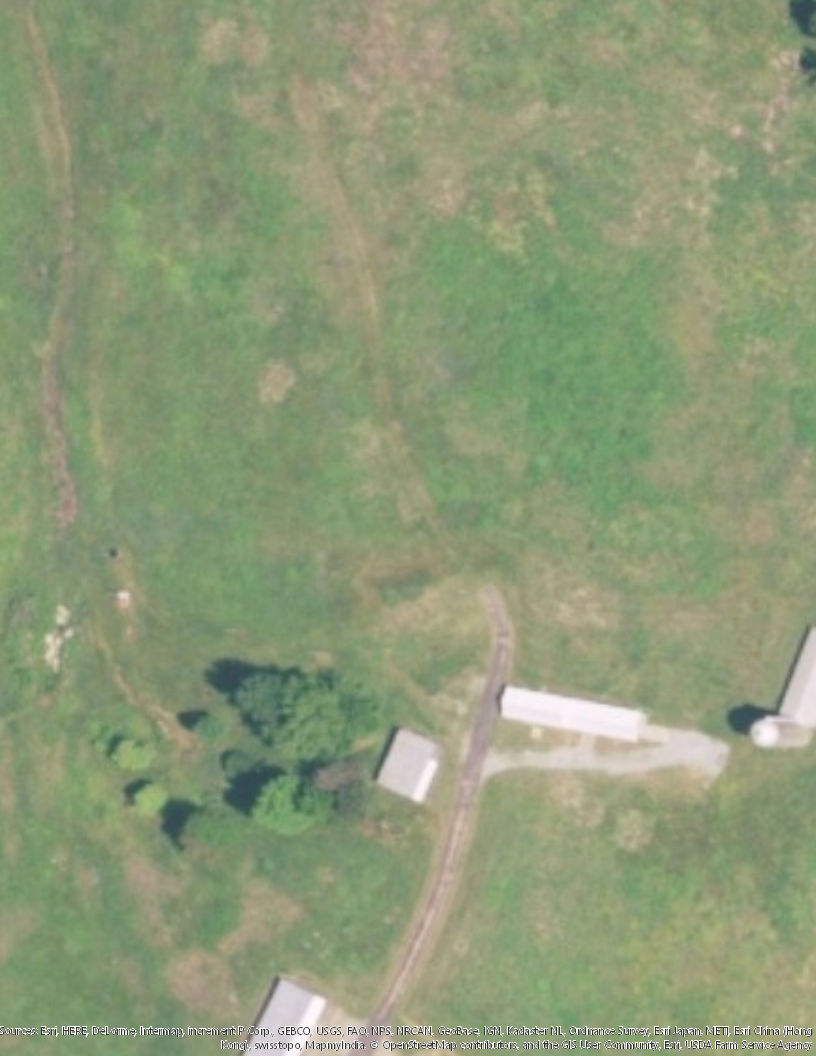cafo: (500, 681, 651, 744)
